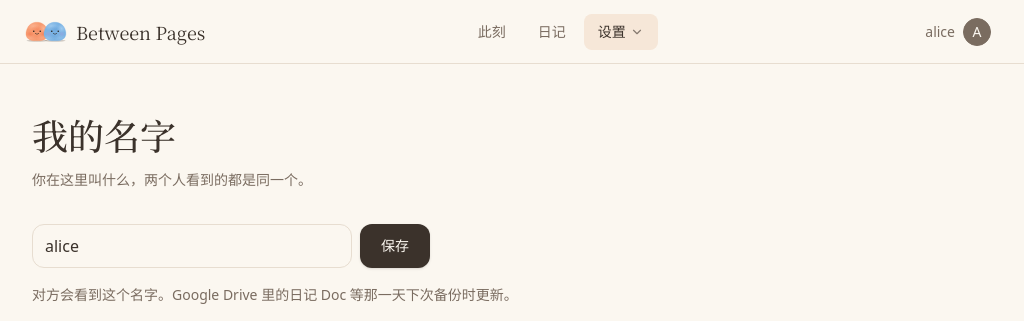
NamePage › is listed under 设置 whether or not there is a partner
Press the mouse on the button "设置": (621, 32) [584, 14, 658, 50]
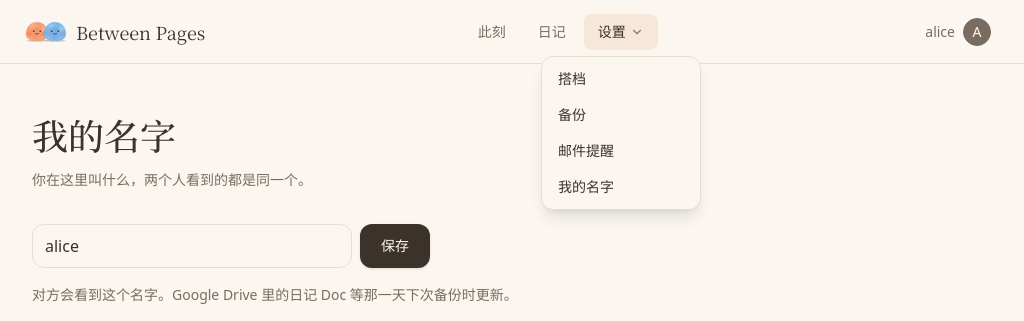
Expected: the menu item "我的名字" is shown, [558, 177, 614, 196]
